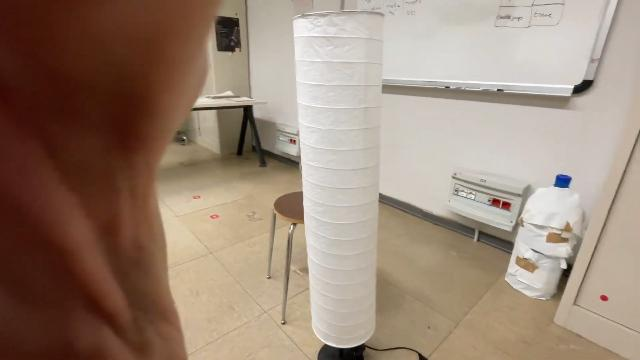Lamp: (288, 6, 388, 360)
Stool: (262, 189, 308, 327)
